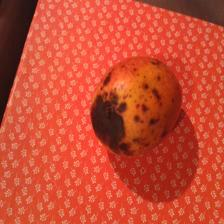Mango Overripe: (87, 48, 186, 154)
